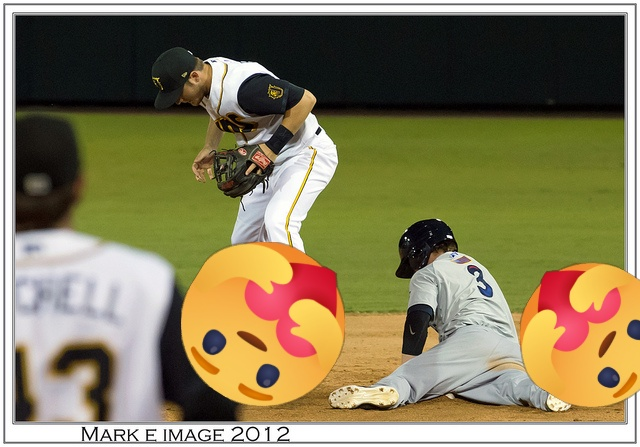care: (181, 242, 345, 406), (520, 263, 640, 407)
